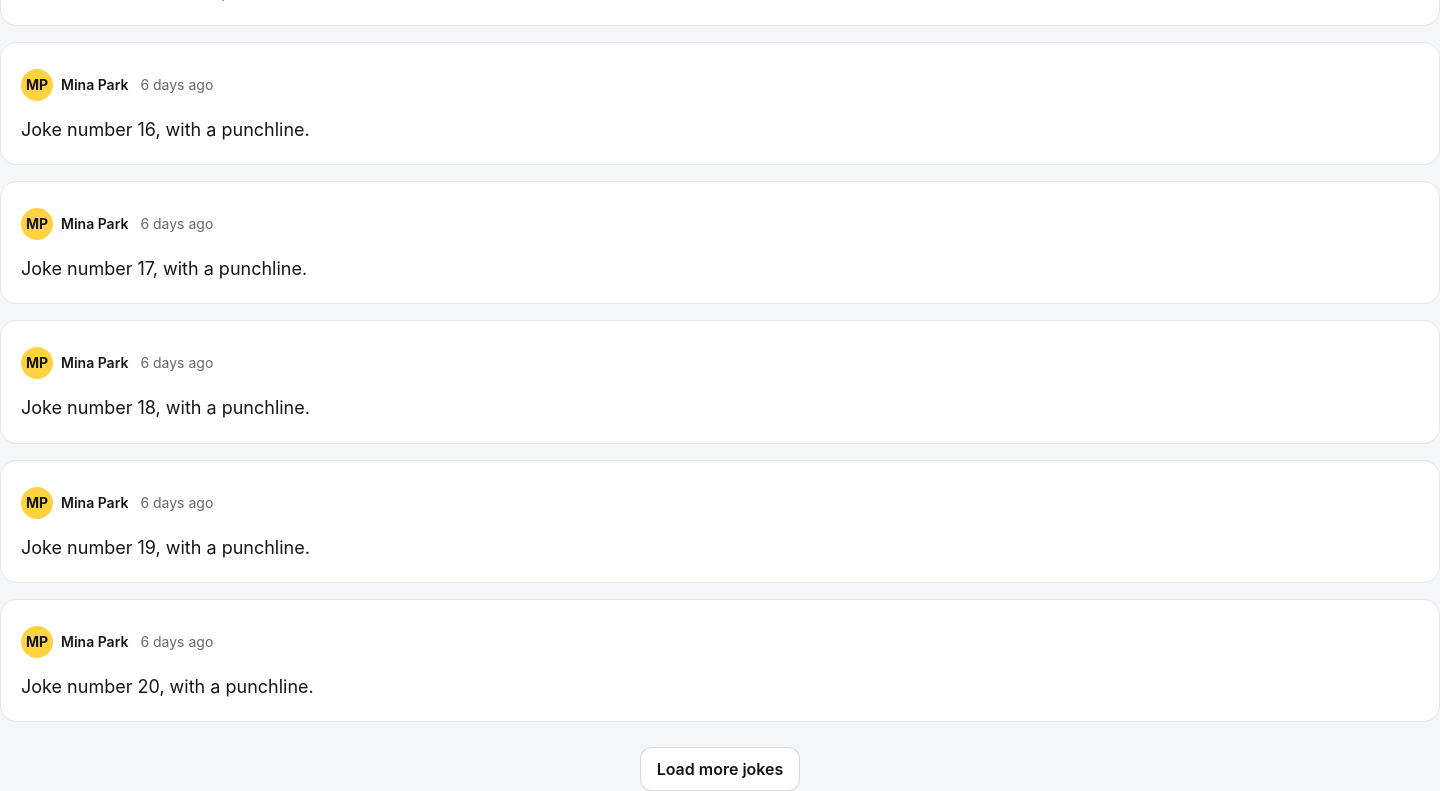
LazyJokeList › shows an error with Retry and keeps the loaded jokes
(page scrolled)
Click the button "Load more jokes" at (720, 769), box 640,747 -> 800,790
(page scrolled)
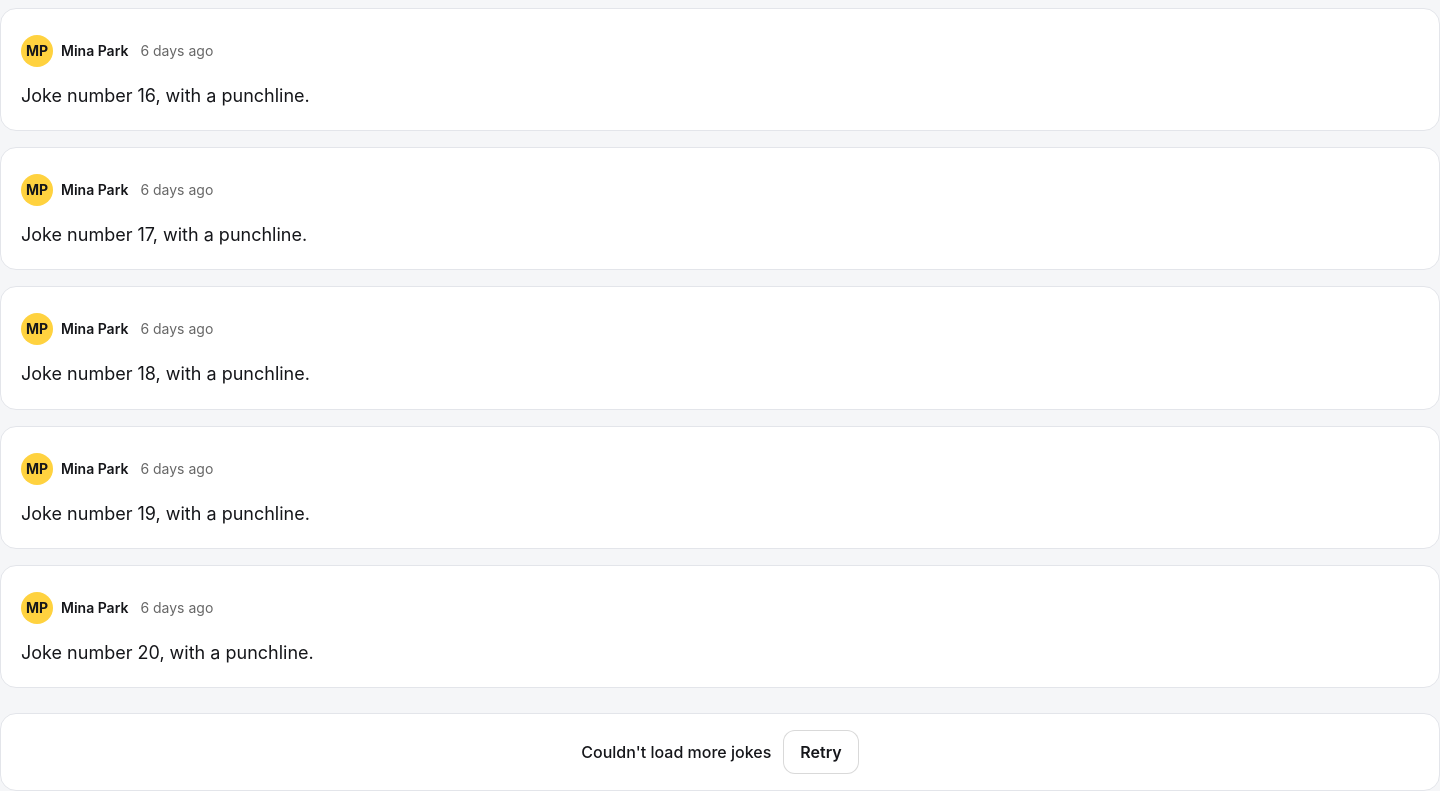
Expected: the element with test id "load-error" shows "Couldn't load more jokes", 581,742 -> 771,762
Click the button "Retry" at (821, 752), box 783,730 -> 859,774
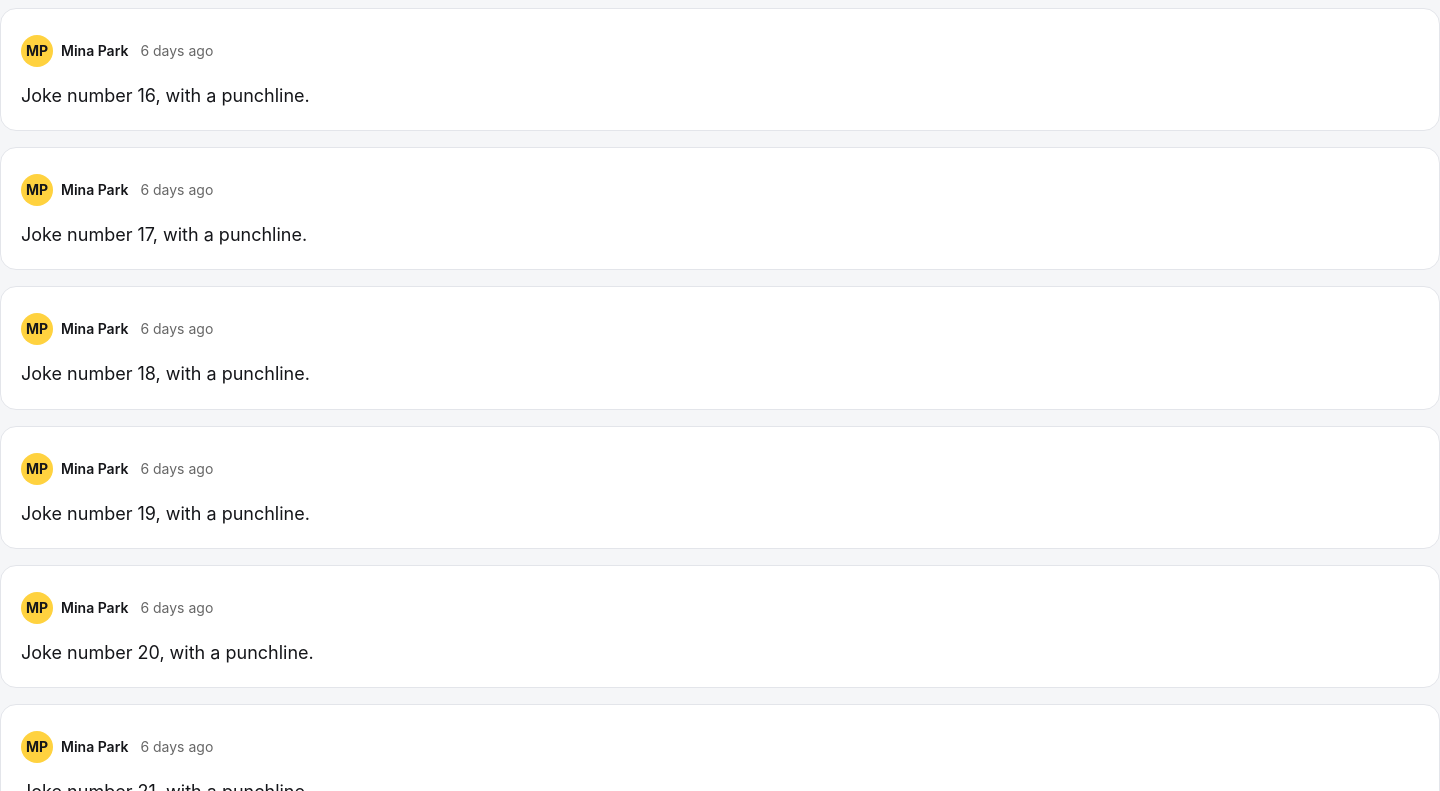
Expected: the element with test id "load-error" is gone
